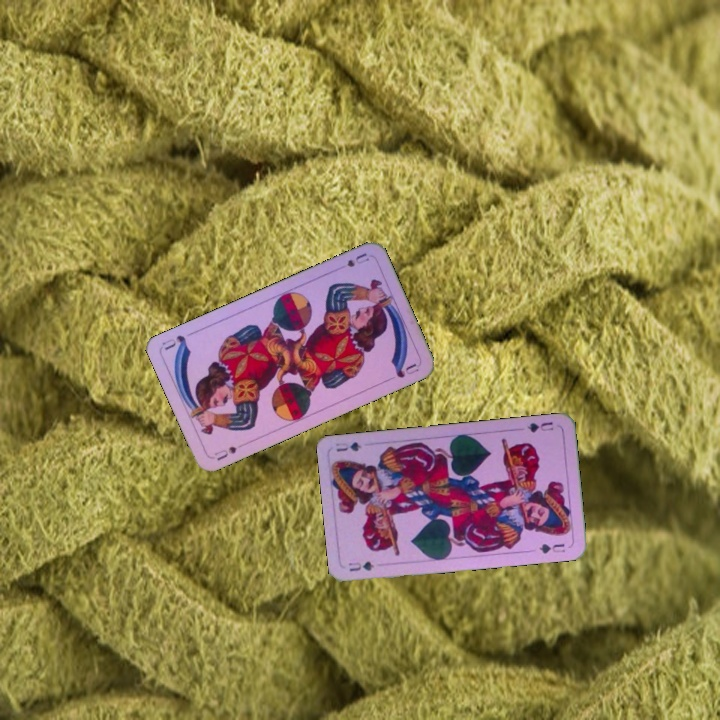GU: (523, 418, 556, 435), (344, 557, 377, 574)
SU: (343, 248, 372, 270), (210, 442, 239, 463)
